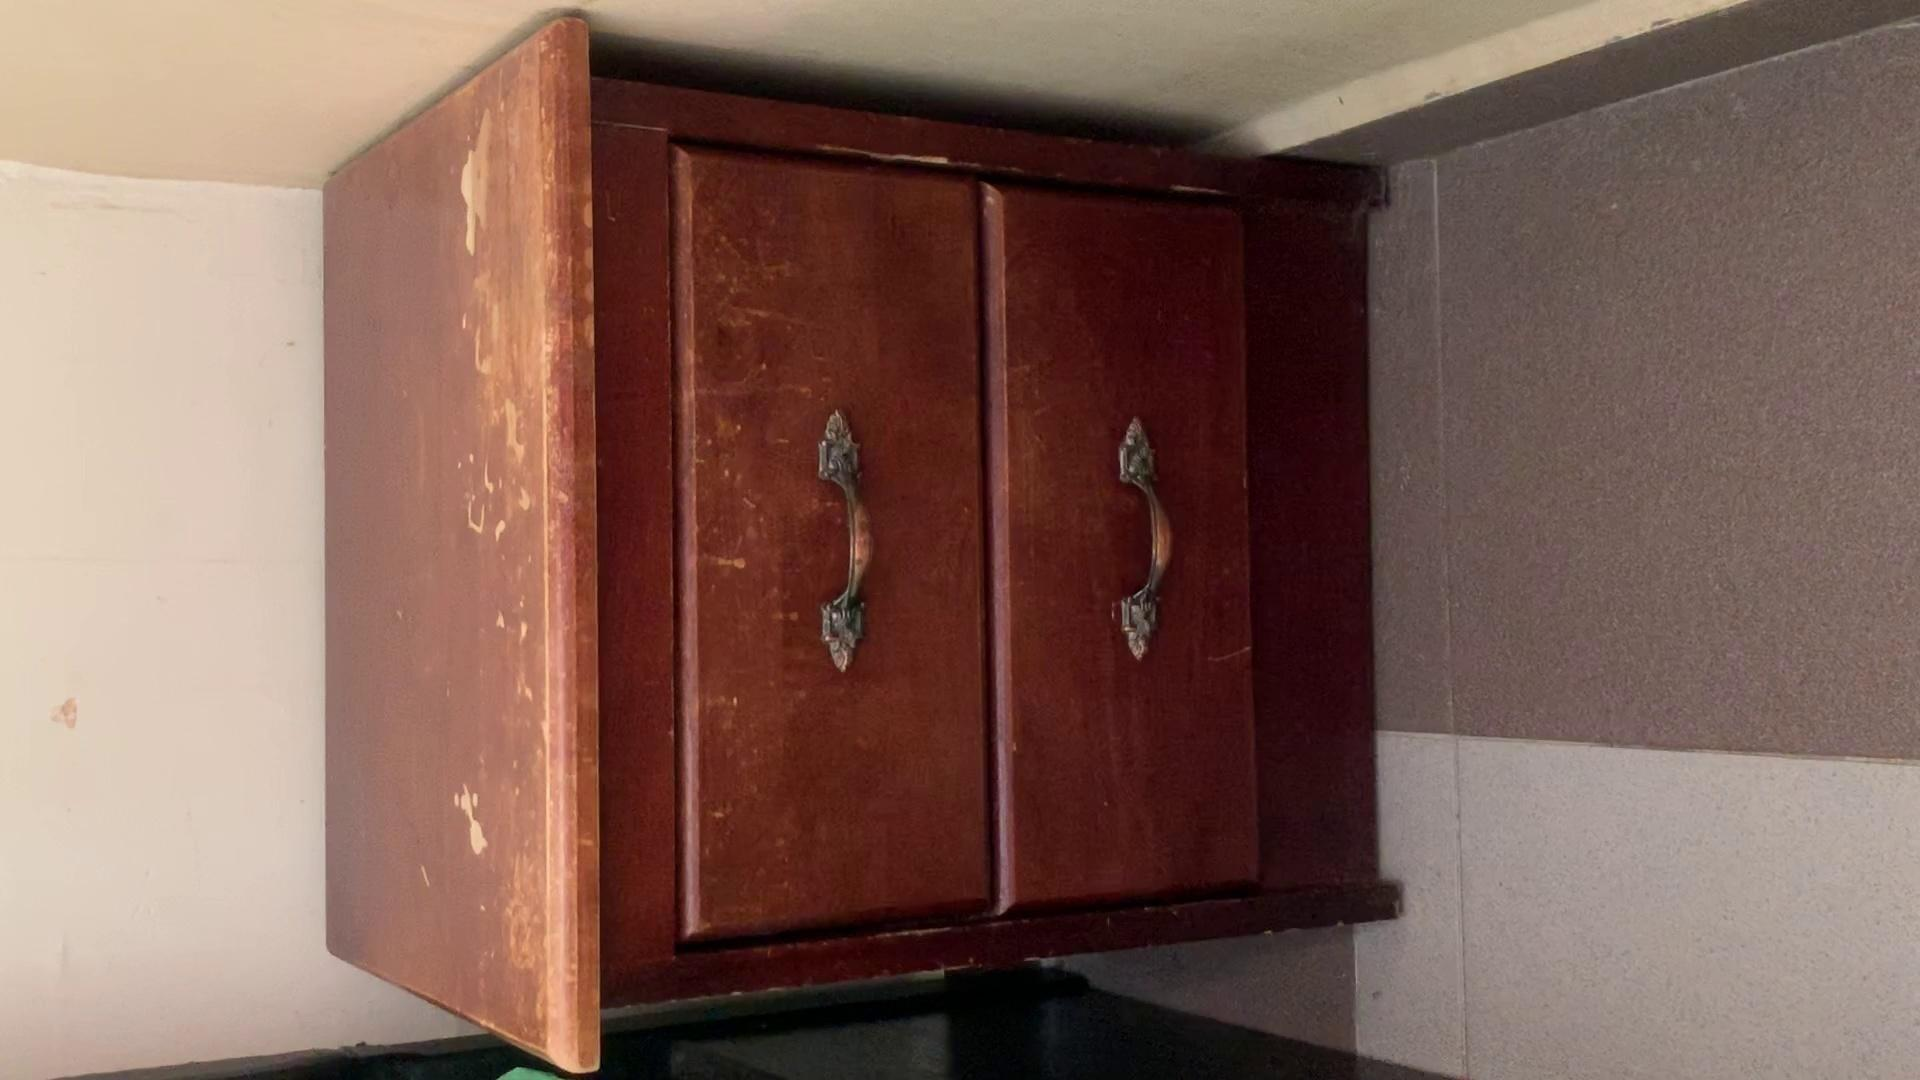cabinet_door: (687, 167, 998, 926), (1002, 185, 1255, 902)
handle: (1096, 415, 1188, 647), (807, 421, 884, 673)
